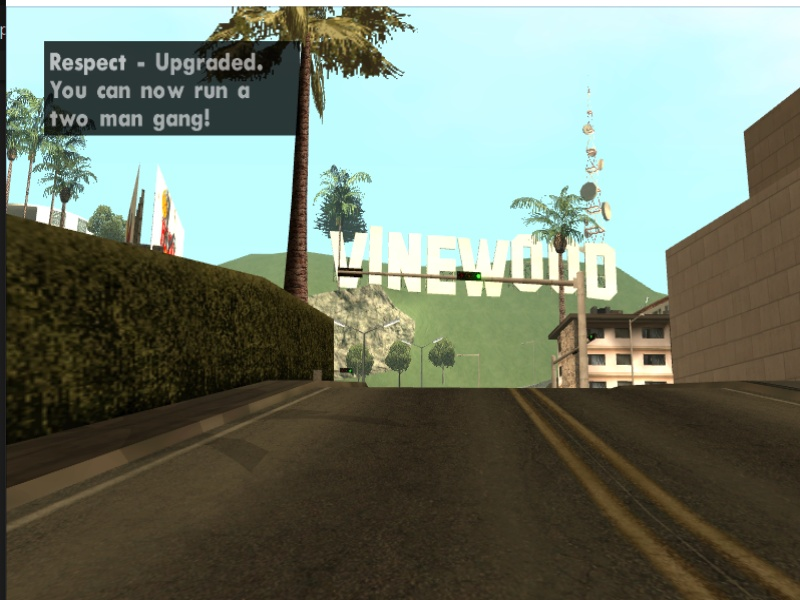pole: (567, 274, 594, 391)
